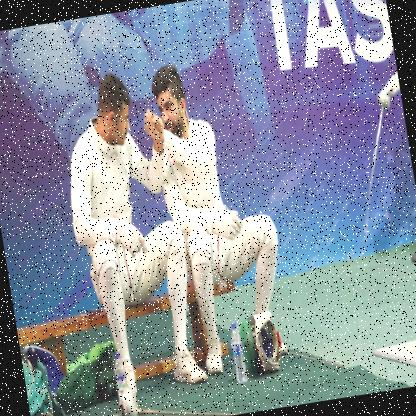fencer: (49, 61, 215, 415), (134, 46, 300, 380)
